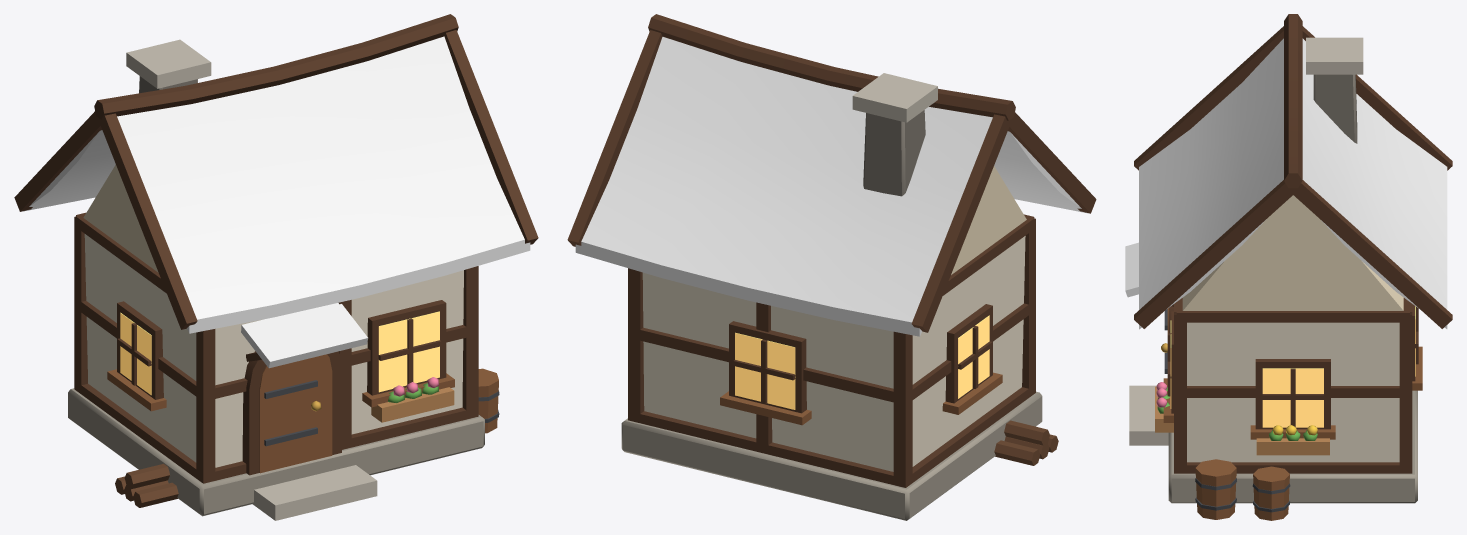
File: district-tier2.glb
3 views of the same model, side by side, from view 1: azimuth 30°, elevation 25°; view 2: azimuth 150°, elevation 25°; view 3: azimuth 270°, elevation 25° (orthographic). The views are drawn at different scales.
Visible parts, largest first — view 1: Part_RoofTint, Part_TimberDark, Walls, Plinth, Part_WoodWarm, Part_StoneLight, Part_WindowGlow, CottageRoof_Gable, Part_Bark, Part_WoodLight, Part_Iron; view 2: Part_RoofTint, Part_TimberDark, Walls, Plinth, Part_WindowGlow, Chimney, CottageRoof_Gable, Part_StoneLight, Part_WoodWarm, Part_Bark; view 3: Part_RoofTint, Part_TimberDark, Walls, CottageRoof_Gable, Plinth, Part_WoodWarm, Part_StoneLight, Part_WindowGlow, Chimney, Part_WoodLight, Part_Iron, Part_BushTop.
Boxes of the visible parts, x1=… form: Part_RoofTint: x1=23, y1=36, x2=530, y2=368; Part_TimberDark: x1=14, y1=14, x2=538, y2=483; Walls: x1=84, y1=234, x2=463, y2=467; Plinth: x1=68, y1=388, x2=484, y2=516; Part_WoodWarm: x1=107, y1=354, x2=498, y2=473; Part_StoneLight: x1=126, y1=39, x2=377, y2=520; Part_WindowGlow: x1=120, y1=311, x2=439, y2=395; CottageRoof_Gable: x1=83, y1=164, x2=158, y2=272; Part_Bark: x1=115, y1=463, x2=178, y2=507; Part_WoodLight: x1=371, y1=387, x2=454, y2=422; Part_Iron: x1=264, y1=380, x2=499, y2=446; Part_RoofTint: x1=575, y1=37, x2=1087, y2=336; Part_TimberDark: x1=567, y1=14, x2=1096, y2=487; Walls: x1=642, y1=236, x2=1025, y2=471; Plinth: x1=621, y1=391, x2=1042, y2=520; Part_WindowGlow: x1=735, y1=315, x2=989, y2=409; Chimney: x1=863, y1=110, x2=925, y2=196; CottageRoof_Gable: x1=951, y1=166, x2=1026, y2=274; Part_StoneLight: x1=852, y1=73, x2=937, y2=122; Part_WoodWarm: x1=720, y1=372, x2=1002, y2=425; Part_Bark: x1=994, y1=420, x2=1058, y2=465; Part_RoofTint: x1=1125, y1=38, x2=1447, y2=329; Part_TimberDark: x1=1134, y1=14, x2=1452, y2=473; Walls: x1=1187, y1=322, x2=1399, y2=462; CottageRoof_Gable: x1=1182, y1=195, x2=1403, y2=310; Plinth: x1=1168, y1=390, x2=1417, y2=503; Part_WoodWarm: x1=1163, y1=308, x2=1422, y2=520; Part_StoneLight: x1=1129, y1=37, x2=1363, y2=445; Part_WindowGlow: x1=1170, y1=306, x2=1415, y2=427; Chimney: x1=1313, y1=74, x2=1357, y2=143; Part_WoodLight: x1=1155, y1=386, x2=1329, y2=455; Part_Iron: x1=1164, y1=309, x2=1290, y2=512; Part_BushTop: x1=1157, y1=387, x2=1317, y2=440.
Bounding box in the file's own units: 3.89 × 3.93 × 3.31.
